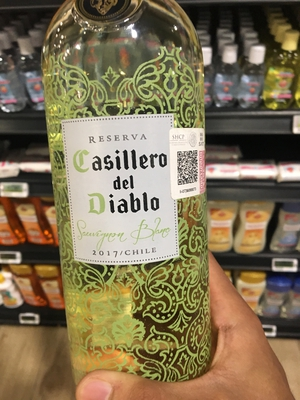casillero del diablo sauvignon blanc: (33, 4, 244, 381)
